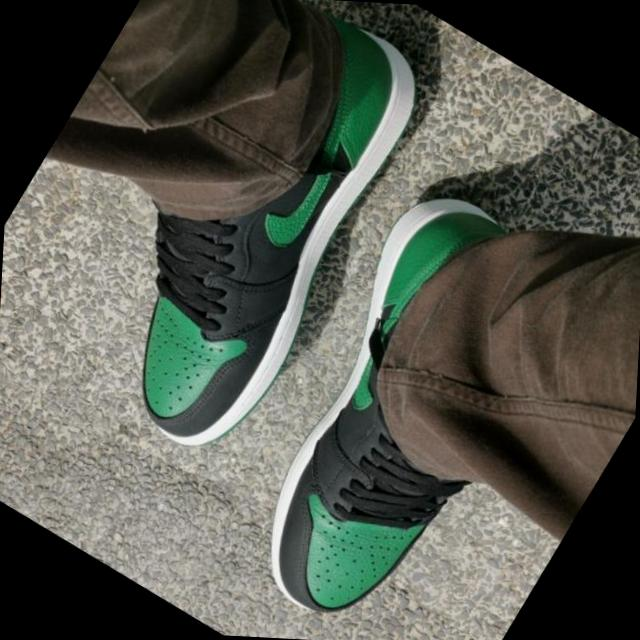nike_original_jordan: (48, 0, 461, 482), (195, 159, 594, 640)
